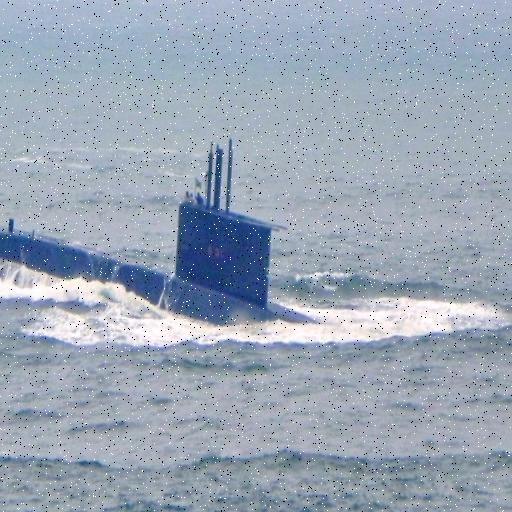submarine: (1, 120, 331, 326)
